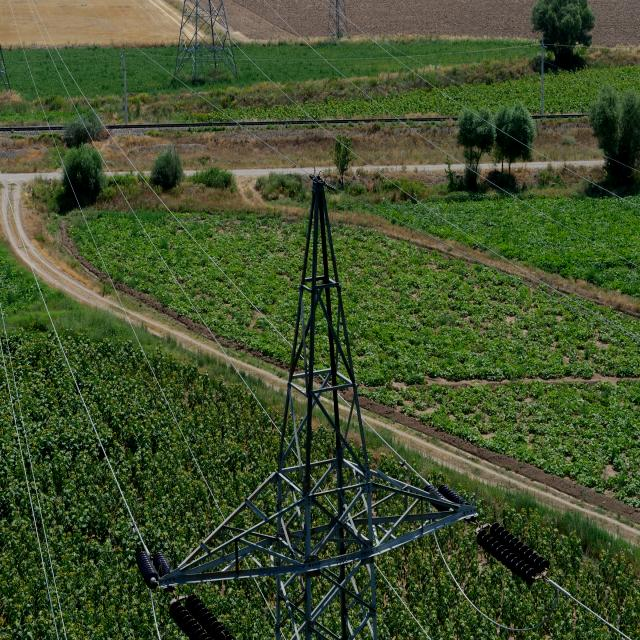voltage_line: (163, 181, 472, 640), (169, 3, 241, 88), (326, 5, 349, 42)
